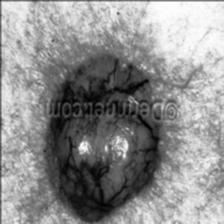Potentially Malignant Skin Tumors: (52, 57, 158, 224)
